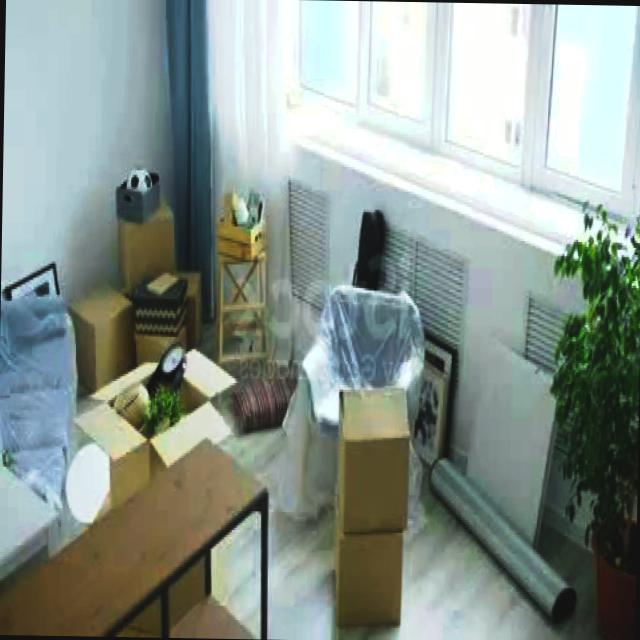Box: (334, 390, 412, 524), (328, 530, 404, 640), (66, 276, 128, 386), (110, 213, 173, 283)
